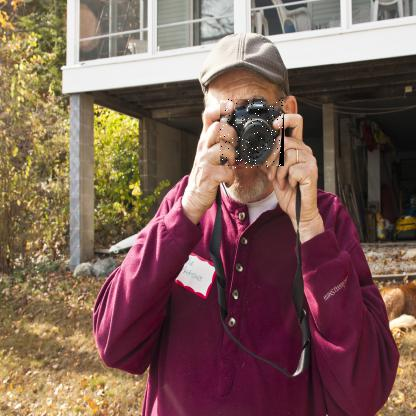Camera: (221, 101, 286, 171)
